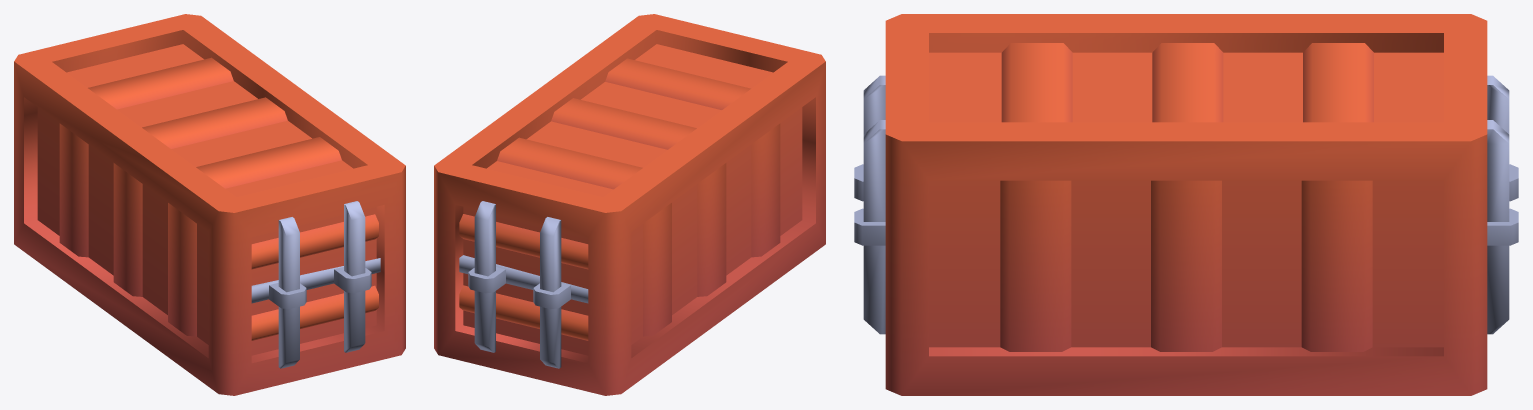
Rendered from shipping-container-a.glb.
The picture shows the model from 3 angles, left to right: view 1: azimuth 30°, elevation 25°; view 2: azimuth 150°, elevation 25°; view 3: azimuth 270°, elevation 25°; orthographic projection. The views are drawn at different scales.
Visible parts, largest first — view 1: shipping-container-a; view 2: shipping-container-a; view 3: shipping-container-a.
Boxes of the visible parts, x1,y1,x2,y2 form: shipping-container-a: (14,14,405,395); shipping-container-a: (434,14,825,395); shipping-container-a: (854,14,1518,395).
Bounding box in the file's own units: 0.3726 × 0.3481 × 0.8226.
1 material, 1 textured.
